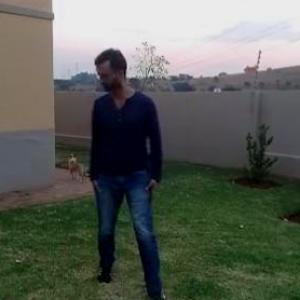follow: (84, 40, 175, 299)
